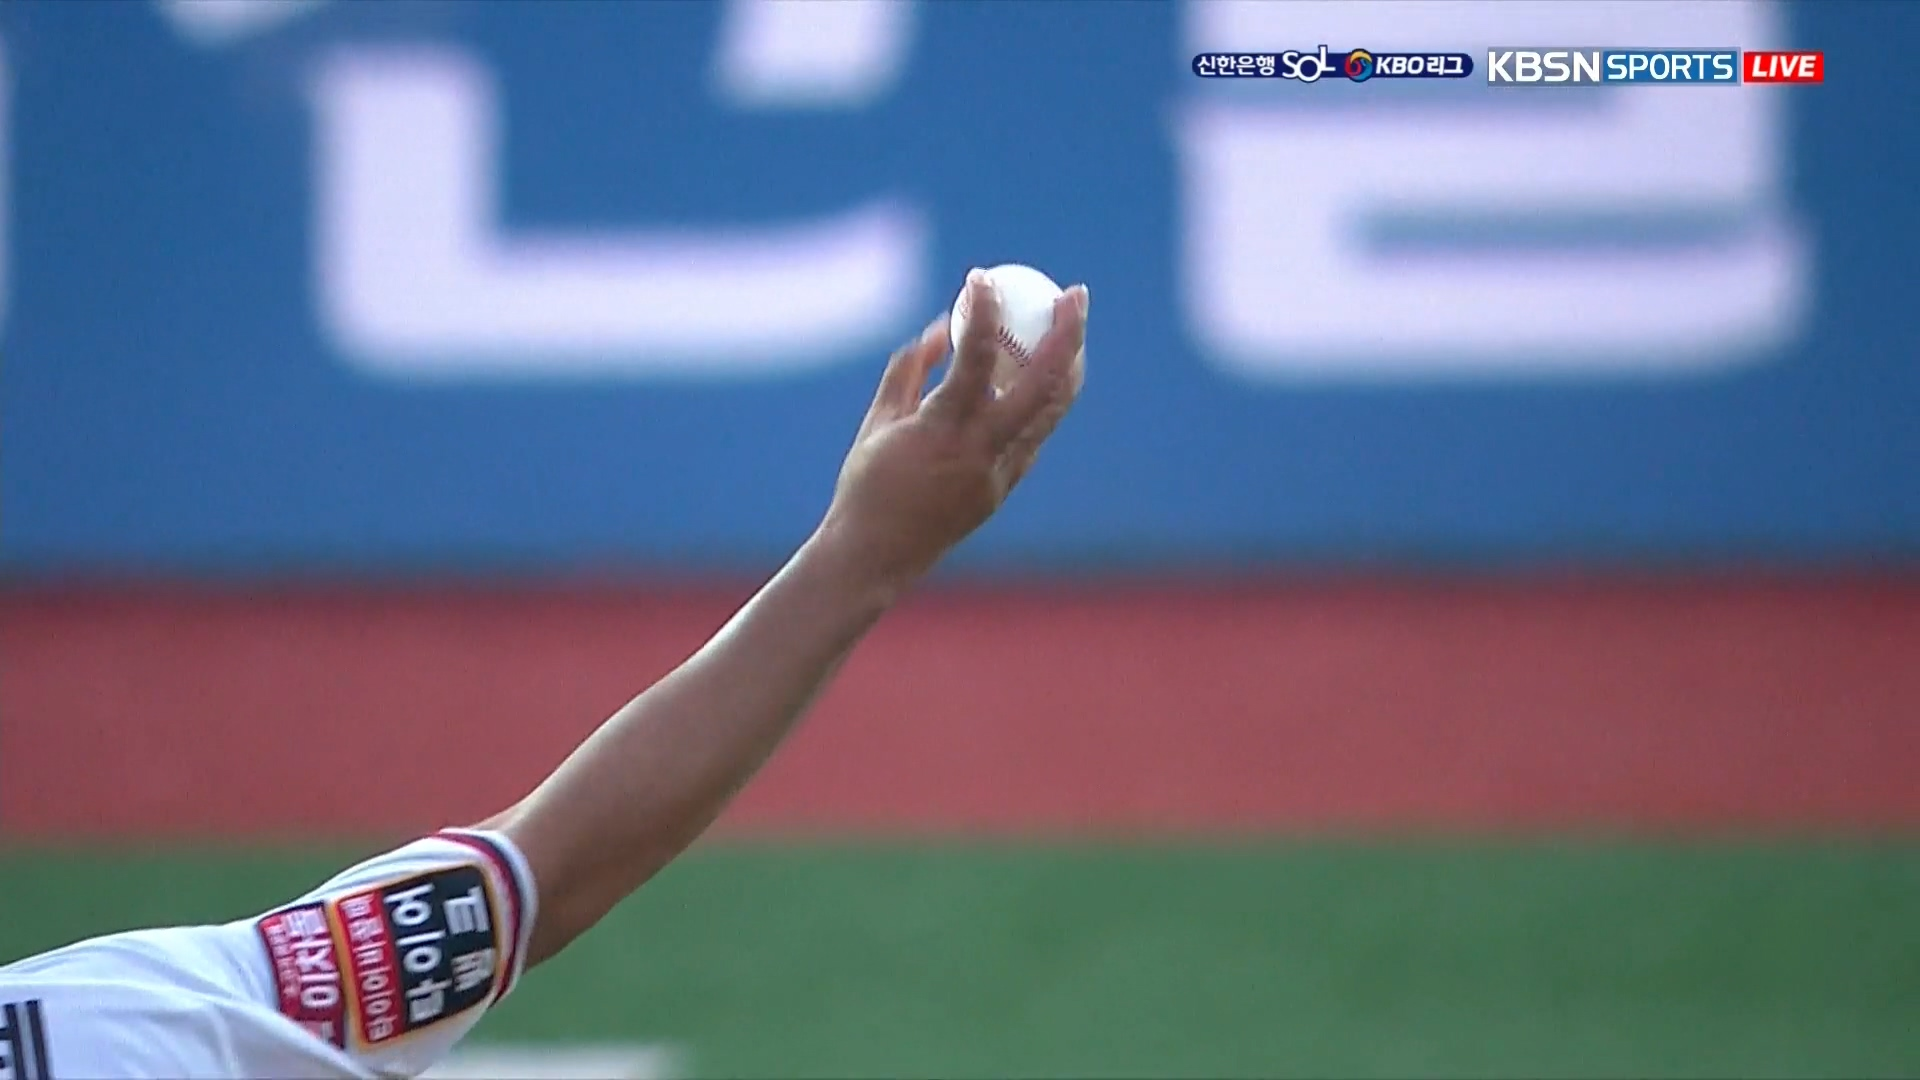zoomin_hand: (527, 257, 1106, 963)
